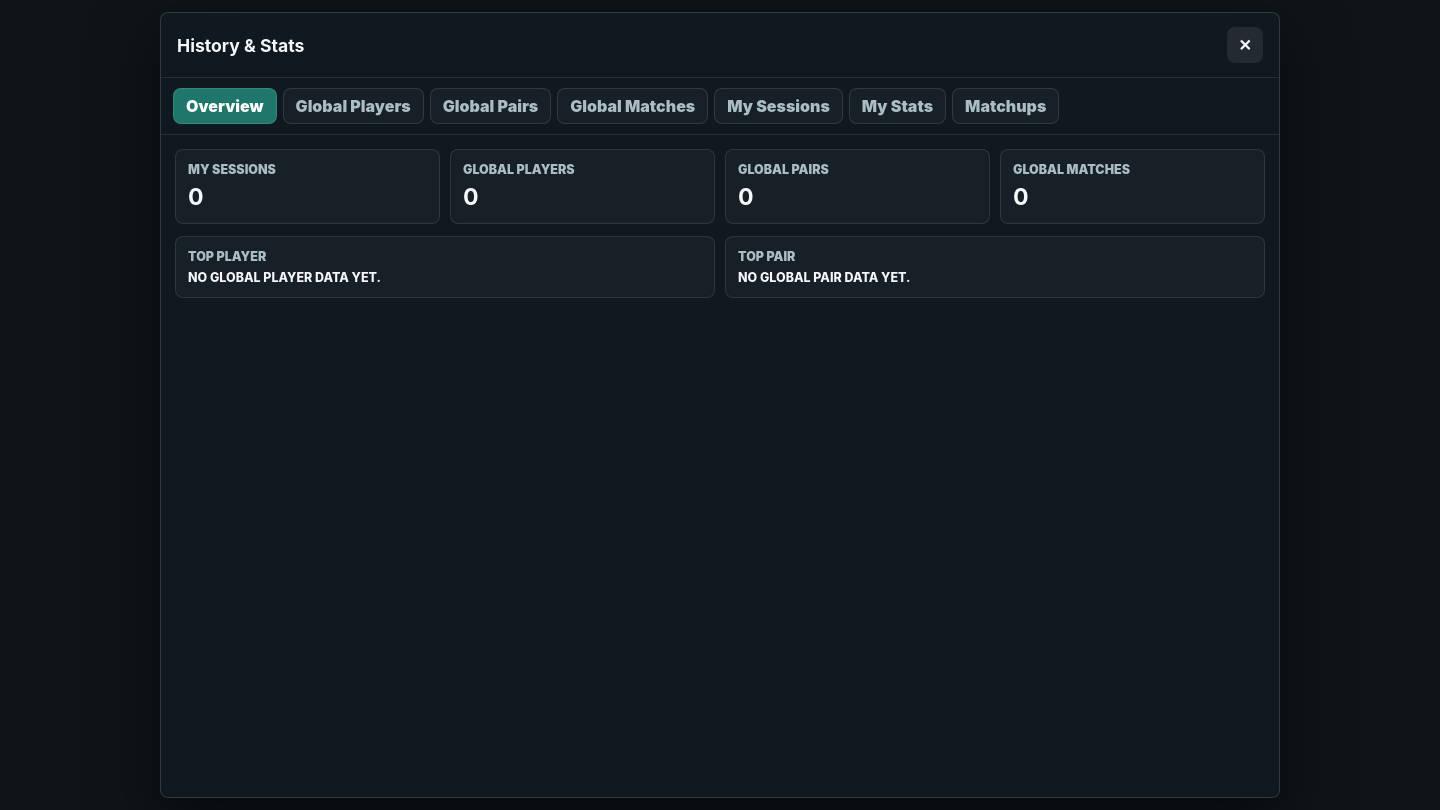
shows personal stats from the user summary
The image size is (1440, 810).
Click the tab "My Stats" at [897, 106], box [849, 88, 946, 124]
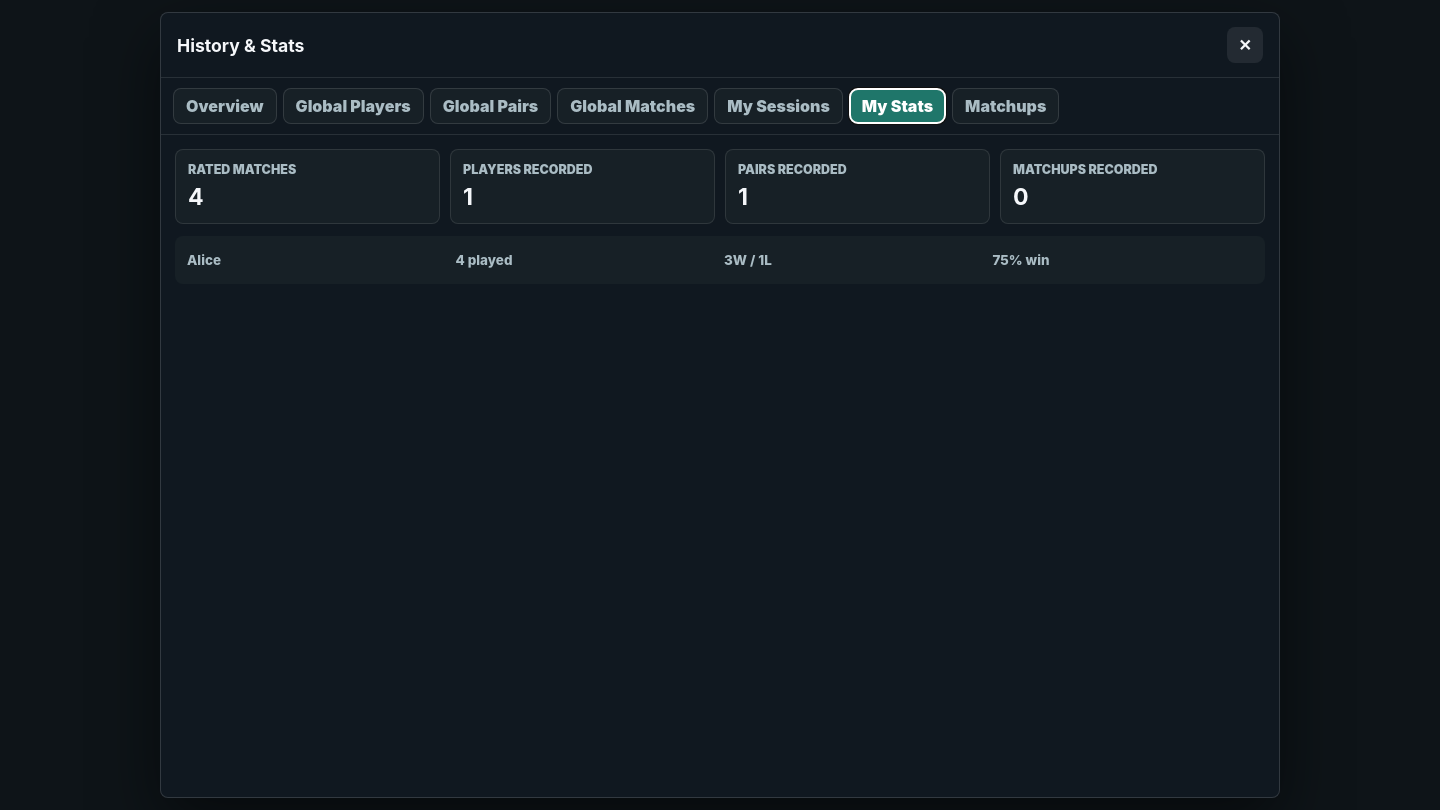
Now the text "Rated matches" is shown, box [188, 162, 296, 177]
Now the text "4" is shown, box [188, 183, 204, 211]
Now the text "Alice" is shown, box [187, 252, 221, 268]
